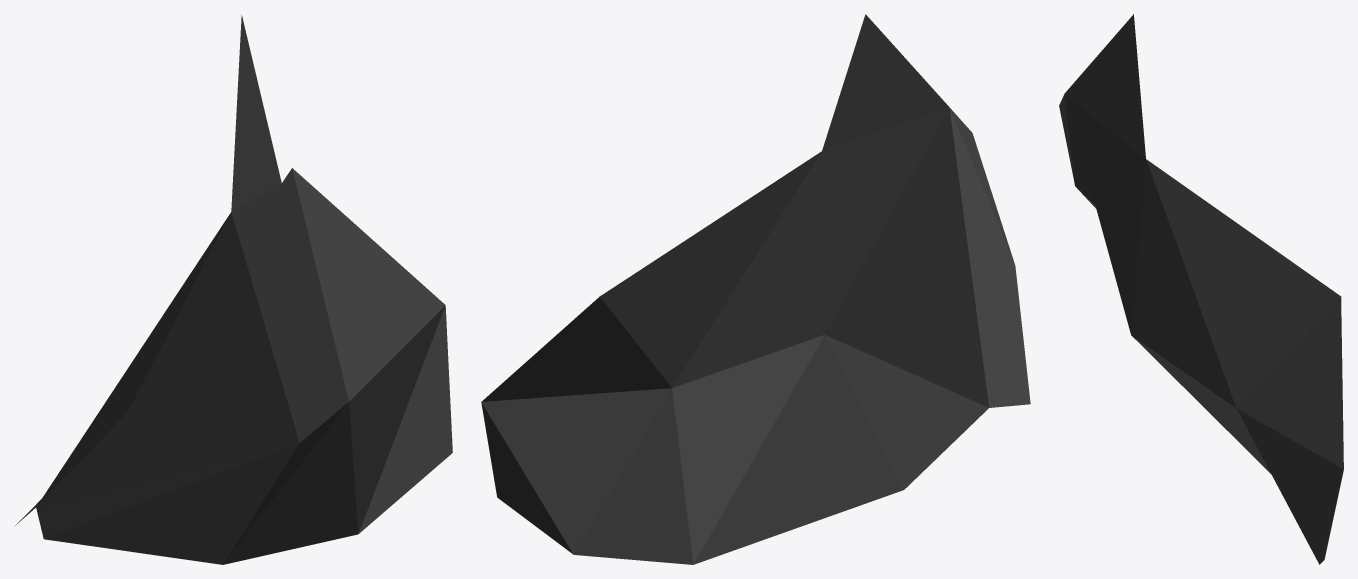
The model's file is A_saphenous_A_saphenous.glb.
The picture shows the model from 3 angles, left to right: view 1: azimuth 30°, elevation 25°; view 2: azimuth 150°, elevation 25°; view 3: azimuth 270°, elevation 25°; orthographic projection. The views are drawn at different scales.
Visible parts, largest first — view 1: A_saphenous_A_saphenous; view 2: A_saphenous_A_saphenous; view 3: A_saphenous_A_saphenous.
Part boxes in pixels (left/top/right/bottom): A_saphenous_A_saphenous: left=15, top=15, right=452, bottom=564; A_saphenous_A_saphenous: left=481, top=14, right=1030, bottom=564; A_saphenous_A_saphenous: left=1059, top=14, right=1343, bottom=564.
Bounding box in the file's own units: 0.00364 × 0.00407 × 0.00225.
Materials: 1 (1 with a texture image).
